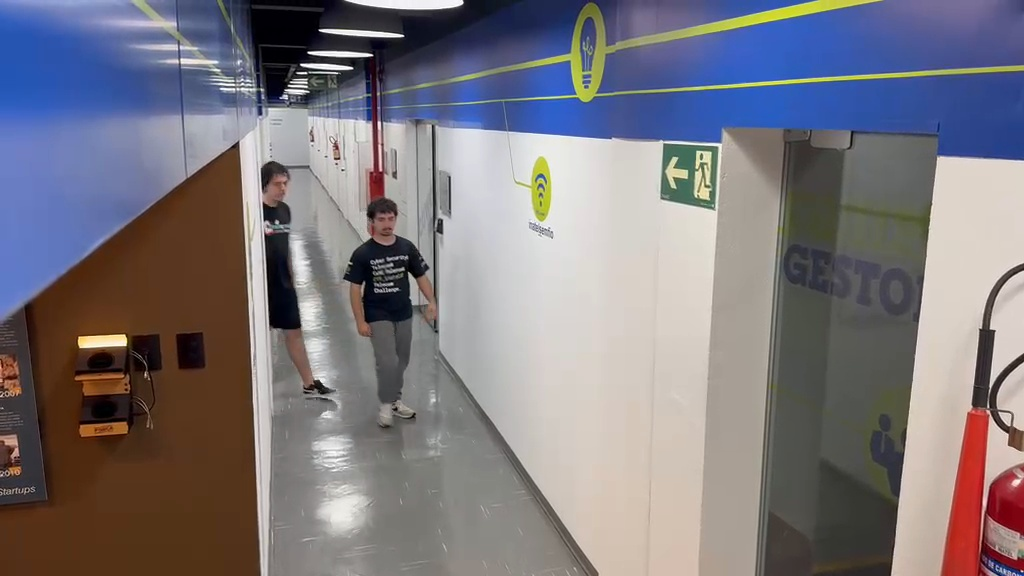person: (342, 197, 438, 427), (259, 162, 335, 398)
